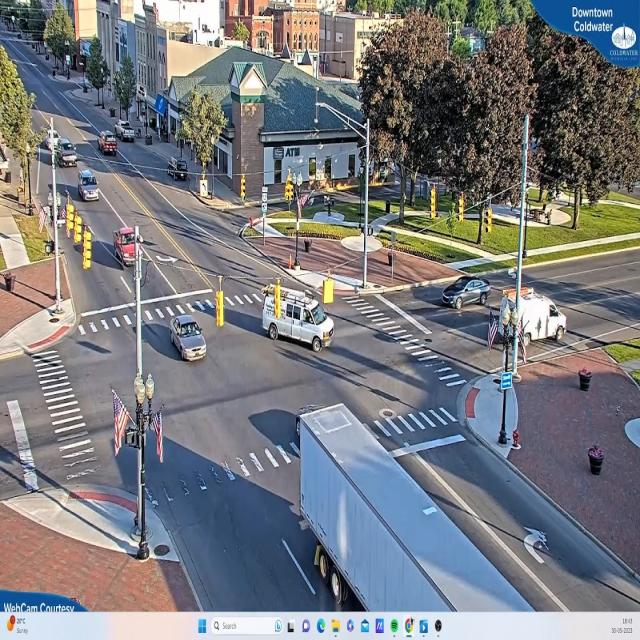car: (171, 314, 210, 364), (442, 276, 489, 308), (115, 228, 140, 268), (79, 174, 101, 202), (98, 132, 118, 154), (59, 151, 78, 167)
truck: (255, 288, 334, 357)
